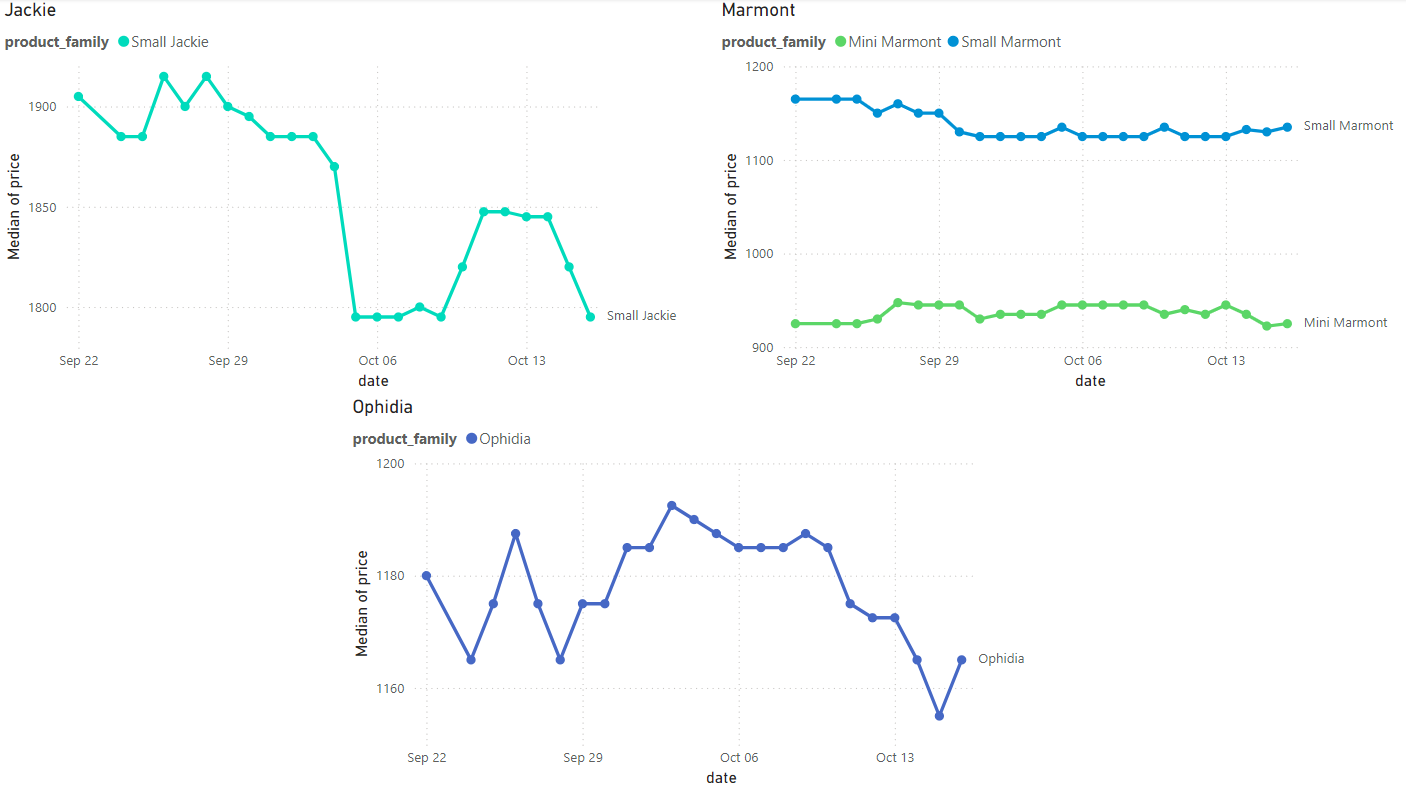

What the dashboard file says about the page in this screenshot:
{"tool":"powerbi","page":{"name":"Gucci","canvas":[1280,720],"ordinal":7},"visuals":[{"type":"lineChart","title":"Jackie","fields":{"Y":["bag-resale-tracker.price"],"Category":["bag-resale-tracker.date"],"Series":["bag-resale-tracker.product_family"]},"box":[0,0,630.3,359.9],"z":0},{"type":"lineChart","title":"Marmont","fields":{"Y":["bag-resale-tracker.price"],"Category":["bag-resale-tracker.date"],"Series":["bag-resale-tracker.product_family"]},"box":[649.7,0,630.3,359.9],"z":1000},{"type":"lineChart","title":"Ophidia","fields":{"Y":["bag-resale-tracker.price"],"Category":["bag-resale-tracker.date"],"Series":["bag-resale-tracker.product_family"]},"box":[315.1,359.9,630.3,359.9],"z":2000}]}

Visuals, with their boxes in screenshot pixels (x1, y1, x2, y2), scaled from the page's 1280x720 canvas onto the 1406x788 screenshot:
"Jackie" lineChart: crop(0, 0, 692, 394)
"Marmont" lineChart: crop(714, 0, 1405, 394)
"Ophidia" lineChart: crop(346, 394, 1038, 787)
